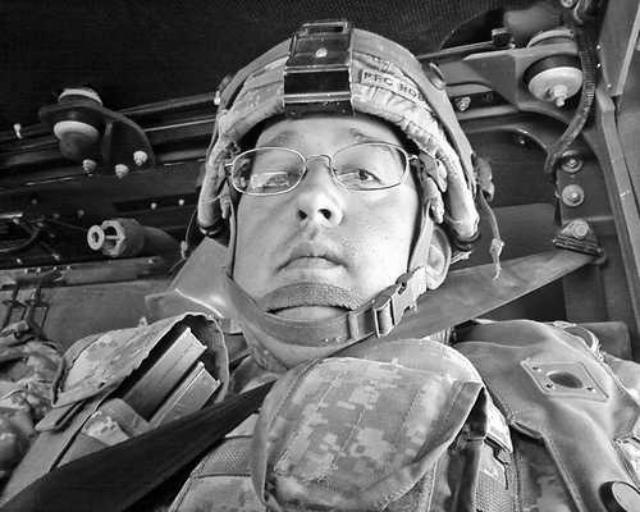SafeDriving: (327, 152, 391, 194), (252, 157, 306, 203)
Seatbelt: (3, 232, 609, 512)
